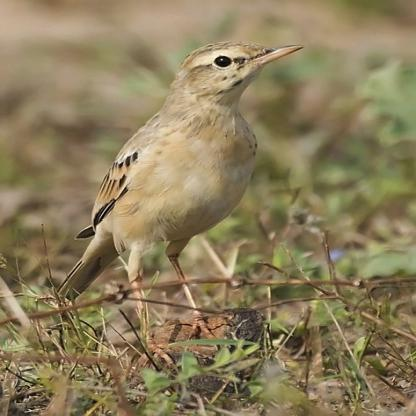Burung: (55, 41, 307, 352)
